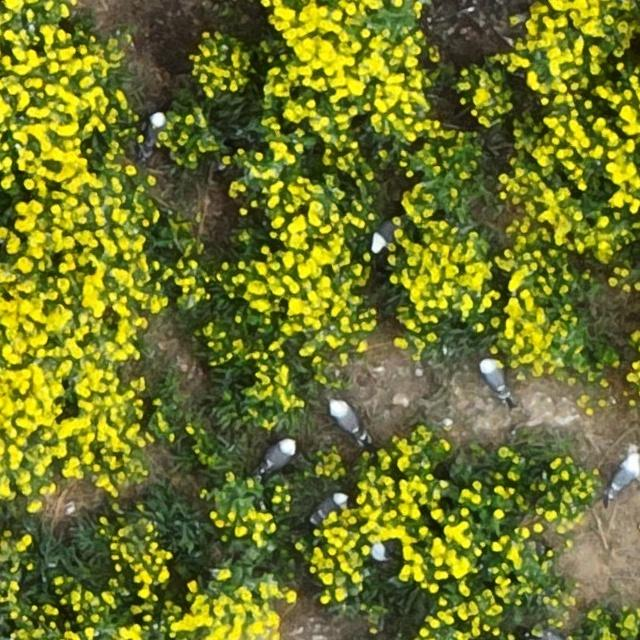umineko: (610, 456, 638, 494), (261, 438, 294, 470), (330, 401, 360, 436), (143, 109, 166, 152), (480, 360, 506, 396), (313, 492, 346, 520), (370, 219, 398, 252), (371, 542, 395, 560)
